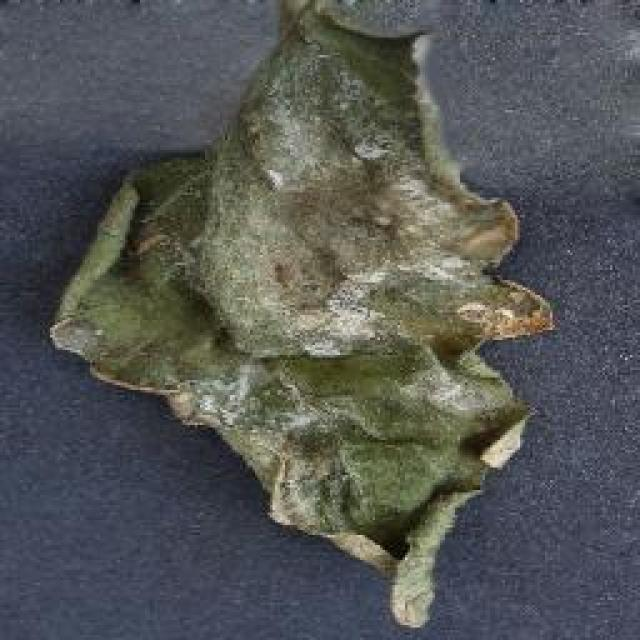Tomato___Late_blight: (48, 0, 557, 631)
